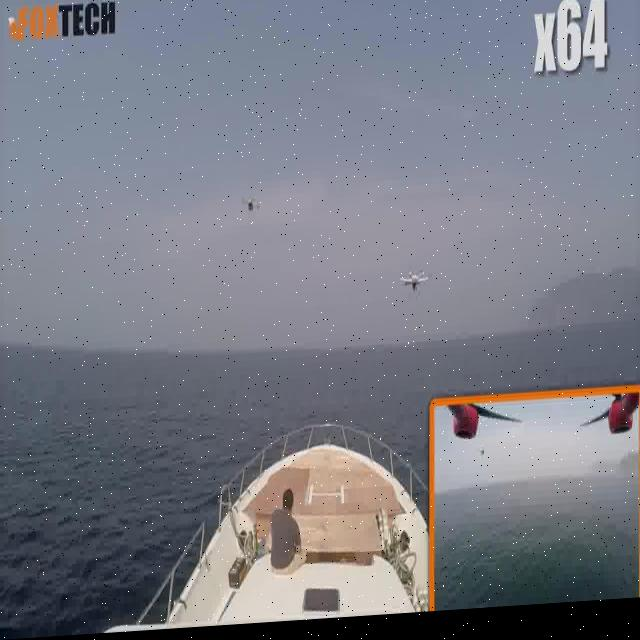drone: (388, 240, 441, 319), (235, 190, 264, 228)
